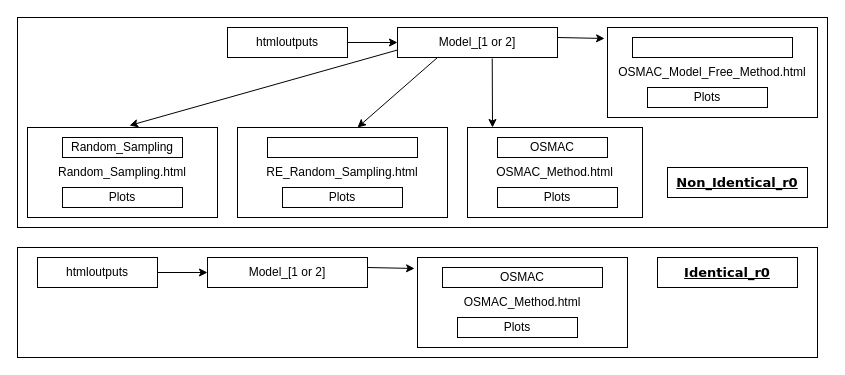
The diagram is 845 pixels wide and 375 high, and some of its shapes have lost their labels. The shapes that lost their labels are listed below. From the top down, each one's centre as x and y in pixels, then its label:
At pixel 712 47: "OSMAC_Model_Free".
At pixel 342 147: "RE_Random_Sampling".
